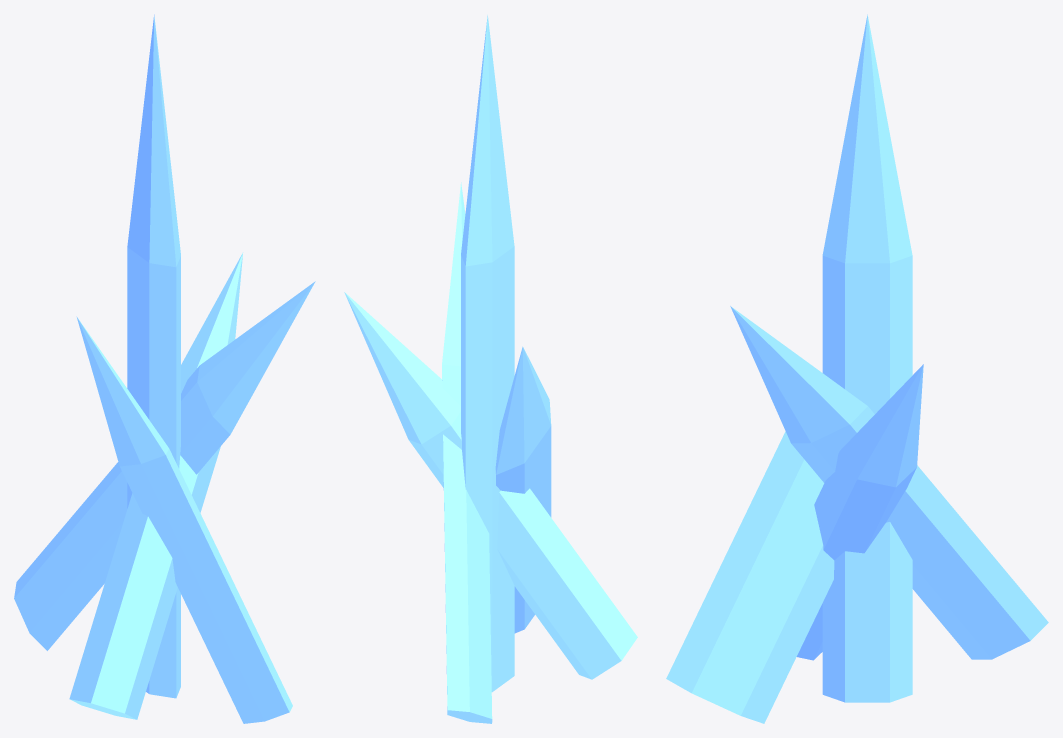
The model's file is cryst5.glb.
3 renders of one model, left to right at view 1: azimuth 30°, elevation 25°; view 2: azimuth 150°, elevation 25°; view 3: azimuth 270°, elevation 25°, orthographic. The views are drawn at different scales.
Visible parts, largest first — view 1: shard; view 2: shard; view 3: shard.
Part boxes in pixels (x1=…): shard: x1=14, y1=14, x2=315, y2=723; shard: x1=344, y1=15, x2=637, y2=723; shard: x1=666, y1=14, x2=1048, y2=723.
Size of the model in its own units: 6.41 by 18.33 by 9.23.
